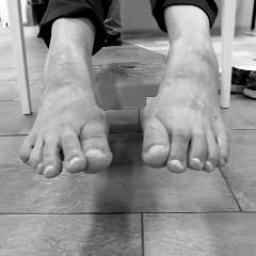Front View -Both Feet-: (6, 30, 250, 198)
